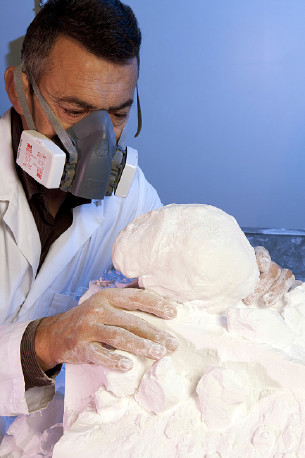face_mask: (36, 44, 135, 198)
